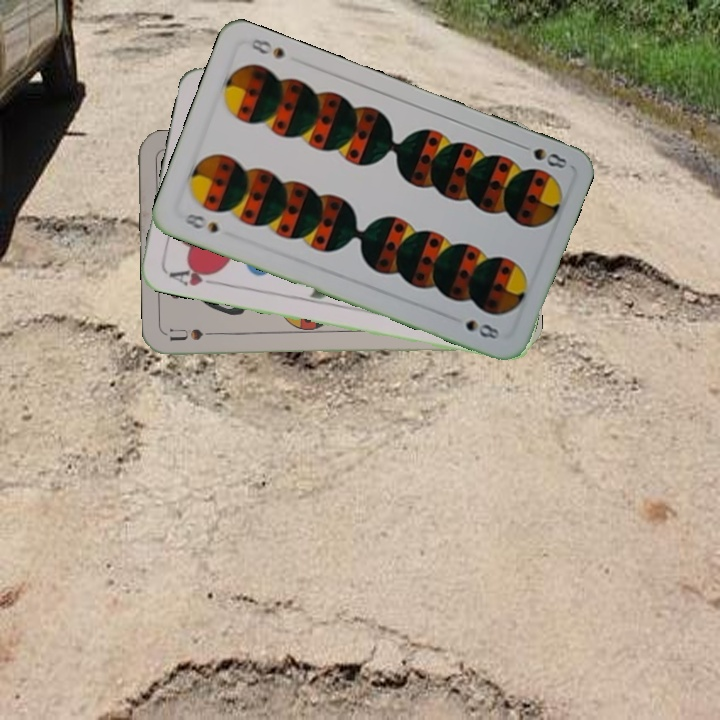HA: (165, 262, 223, 289)
S8: (512, 139, 570, 172), (176, 209, 221, 236)
SU: (167, 324, 226, 344)
